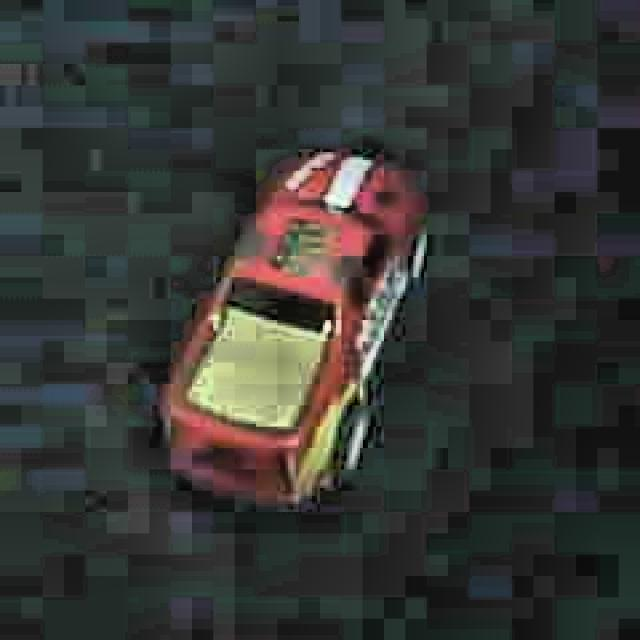car: (153, 141, 435, 514)
